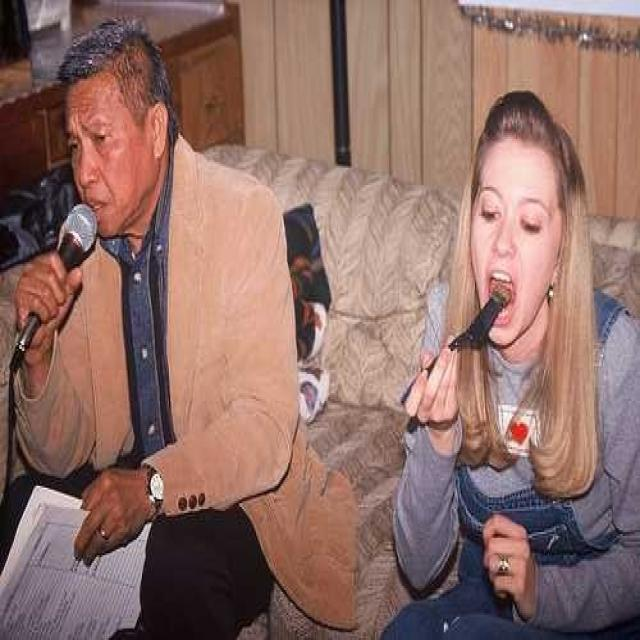microphone: (11, 200, 102, 368)
